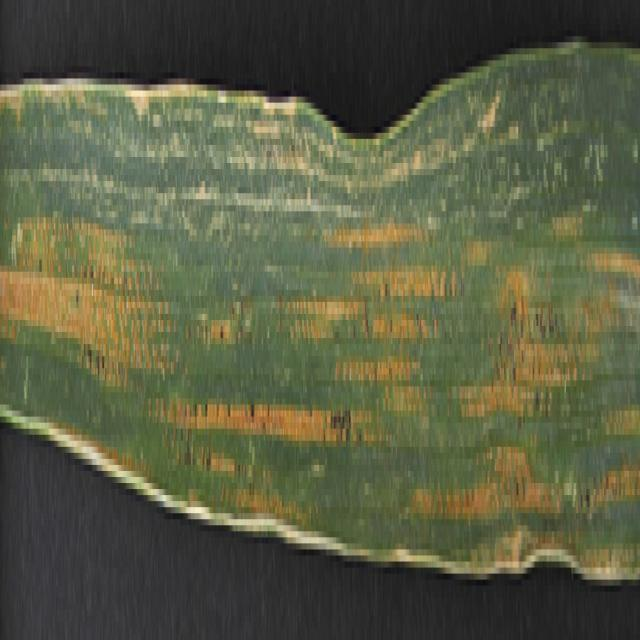leaf rust: (0, 199, 640, 573)
